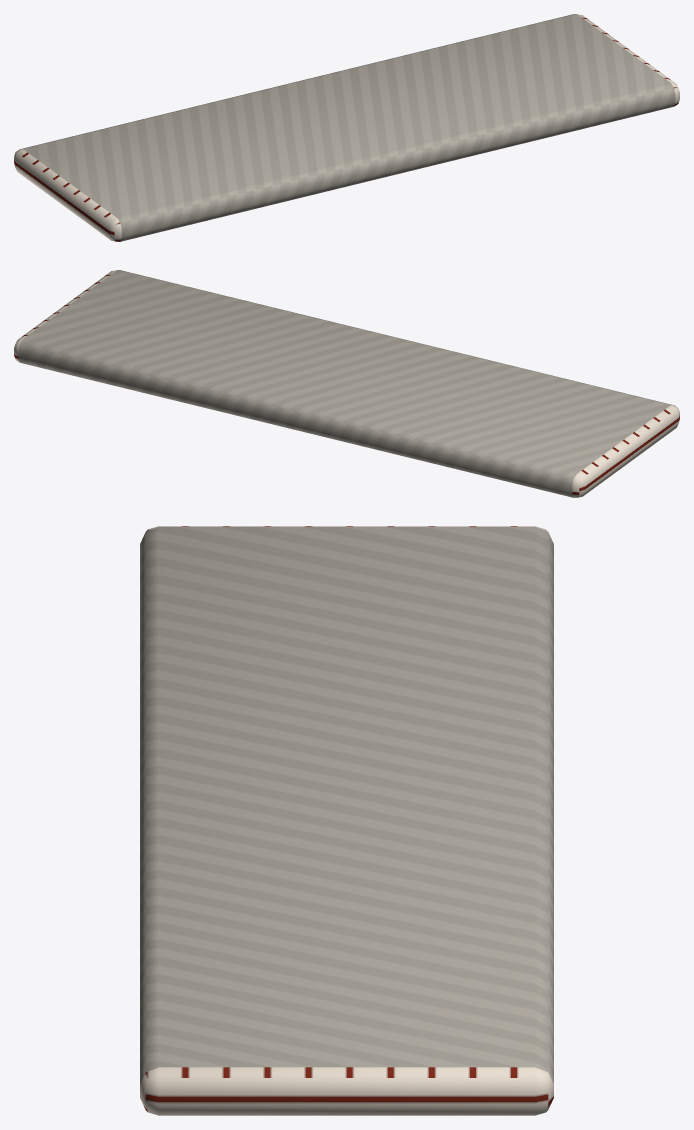
Rendered from modern_blanket_01.glb.
3 views of the same model, one above another, from view 1: azimuth 30°, elevation 25°; view 2: azimuth 150°, elevation 25°; view 3: azimuth 270°, elevation 25° (orthographic). The views are drawn at different scales.
Parts seen in each view (by area): view 1: modern_blanket_01; view 2: modern_blanket_01; view 3: modern_blanket_01.
Part boxes in pixels (x1,y1,x2,y2): modern_blanket_01: [14, 14, 679, 241]; modern_blanket_01: [14, 270, 679, 497]; modern_blanket_01: [140, 526, 553, 1115].
Bounding box in the file's own units: 1.75 × 0.07 × 0.55.
2 materials, 2 textured.
